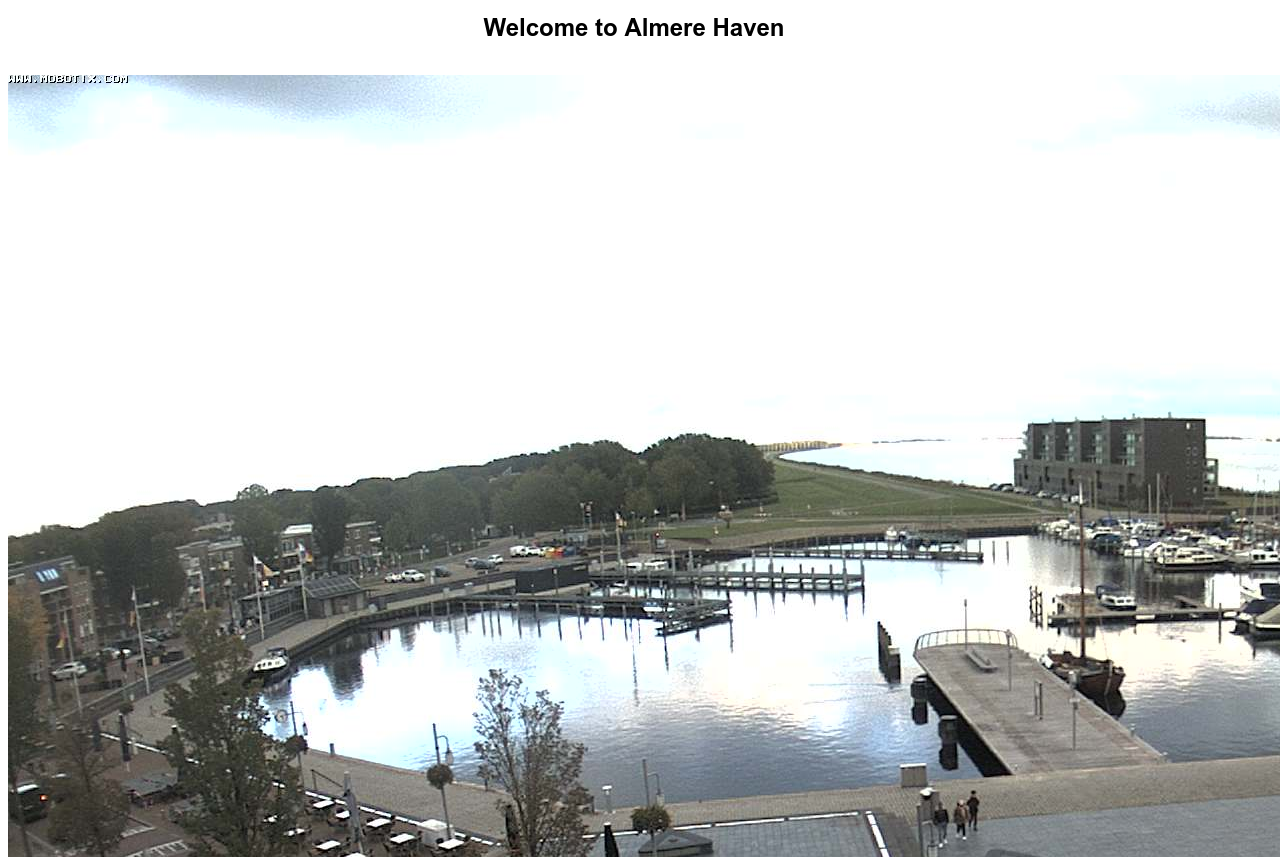maybe: (246, 550, 279, 578), (293, 537, 316, 566)
no: (122, 579, 147, 628)
